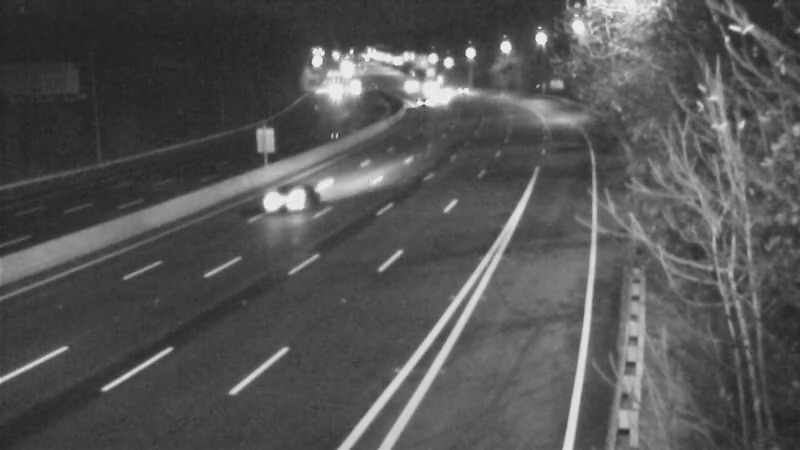vehicle: (244, 158, 324, 238), (382, 58, 432, 108), (432, 64, 482, 114), (412, 73, 462, 123), (396, 76, 446, 126), (313, 72, 363, 122)
